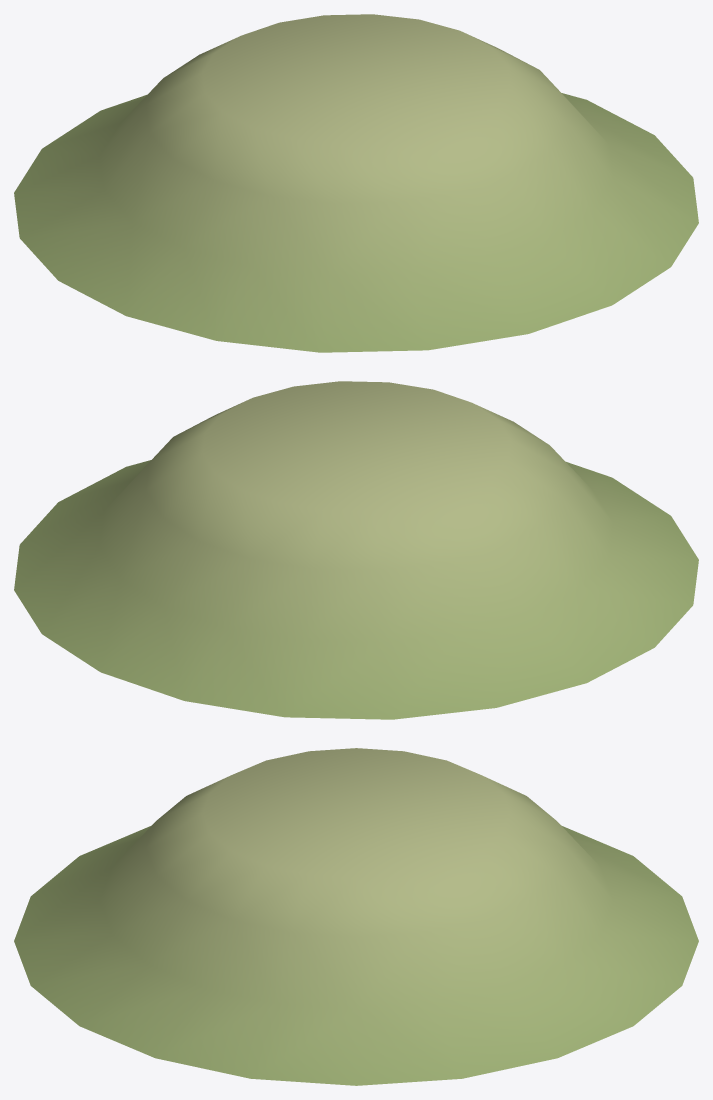
The model's file is hill-smooth.glb.
The picture shows the model from 3 angles, top to bottom: view 1: azimuth 30°, elevation 25°; view 2: azimuth 150°, elevation 25°; view 3: azimuth 270°, elevation 25°; orthographic projection.
Visible parts, largest first — view 1: hill-smooth; view 2: hill-smooth; view 3: hill-smooth.
Boxes of the visible parts, left/top/right/bottom form: hill-smooth: left=14, top=14, right=698, bottom=352; hill-smooth: left=14, top=381, right=698, bottom=719; hill-smooth: left=14, top=748, right=698, bottom=1085.
Size of the model in its own units: 1 by 0.2063 by 1.
